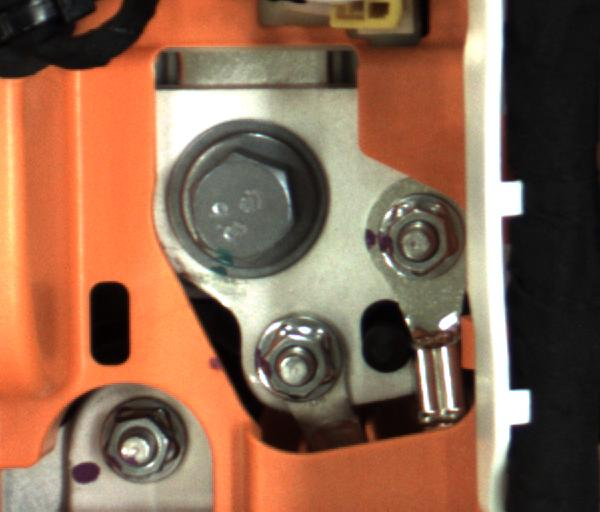nut_b: (176, 122, 327, 280)
screw_s: (363, 187, 453, 282), (104, 408, 187, 487), (257, 322, 334, 399)
